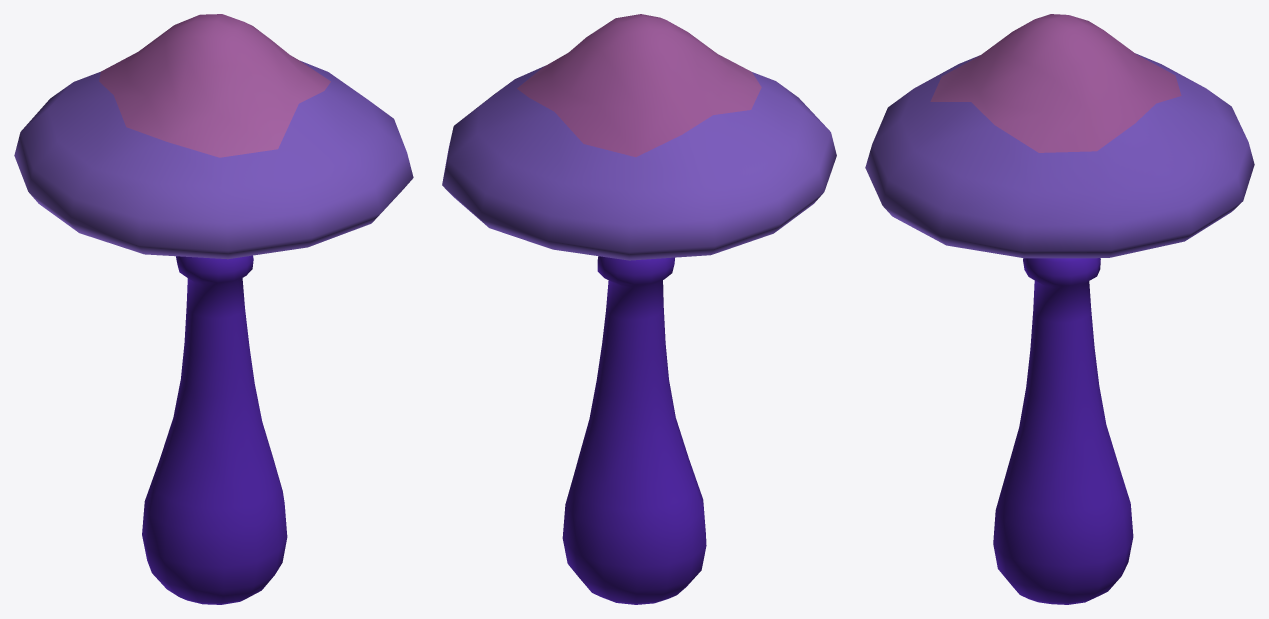
Rendered from mushroom 22.fbx.
The picture shows the model from 3 angles, left to right: view 1: azimuth 30°, elevation 25°; view 2: azimuth 150°, elevation 25°; view 3: azimuth 270°, elevation 25°; orthographic projection.
Parts seen in each view (by area): view 1: Mushroom_0001_0022; view 2: Mushroom_0001_0022; view 3: Mushroom_0001_0022.
Boxes of the visible parts, x1=… form: Mushroom_0001_0022: x1=14, y1=14, x2=413, y2=604; Mushroom_0001_0022: x1=442, y1=14, x2=836, y2=604; Mushroom_0001_0022: x1=865, y1=14, x2=1254, y2=604.
Bounding box in the file's own units: 19.32 × 31.76 × 19.71.
Materials: 1 (1 with a texture image).
